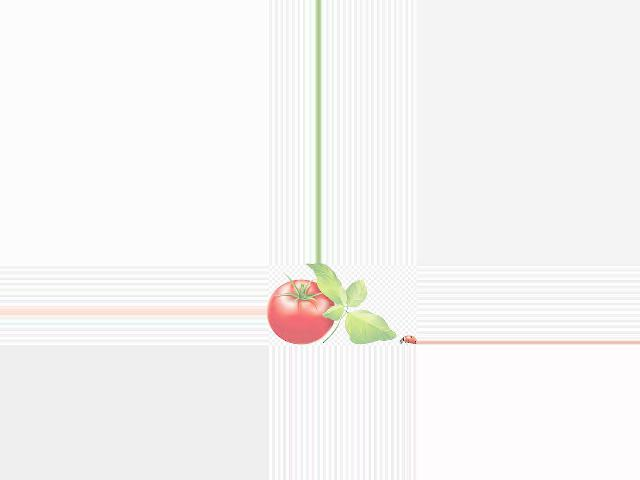tomato: (267, 279, 335, 344)
